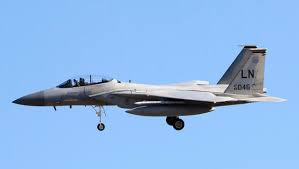fighter: (10, 43, 288, 134)
